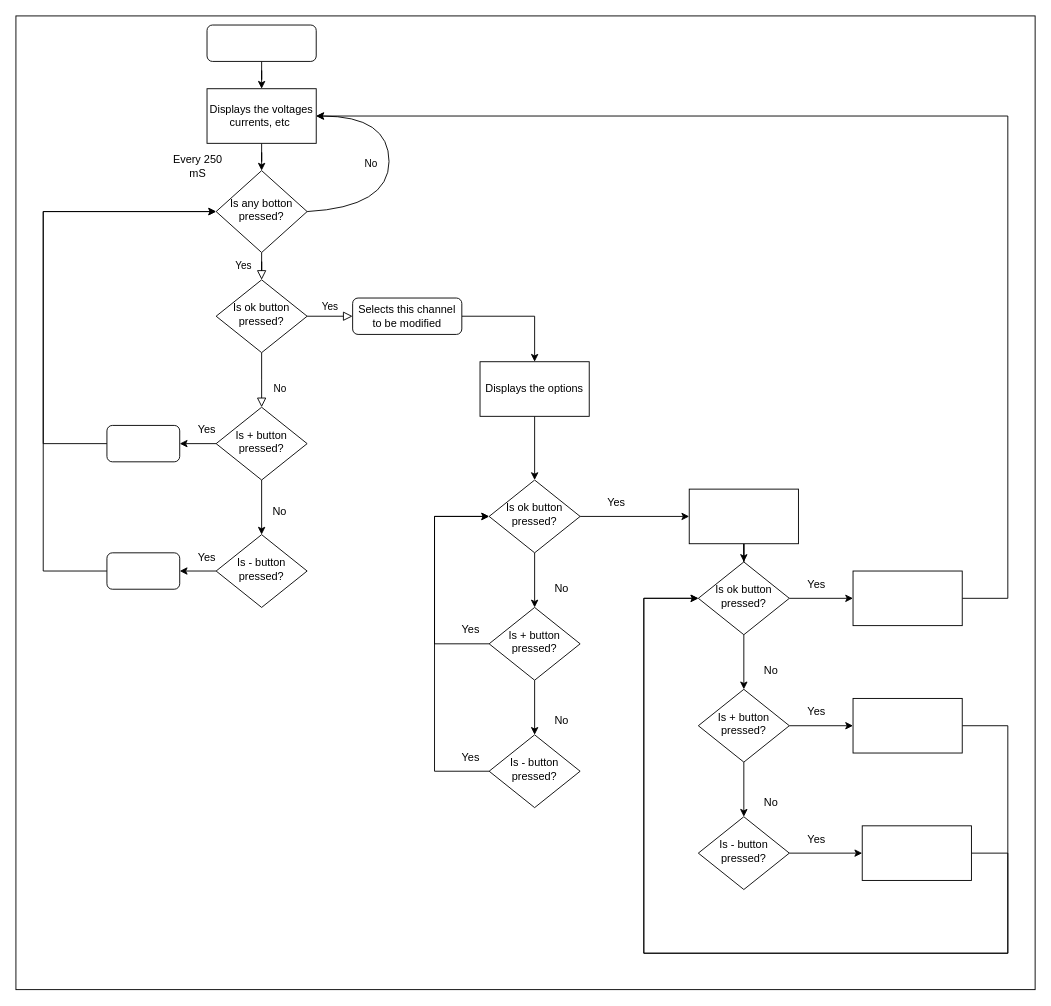
The diagram is 1051 pixels wide and 1006 high, and some of its shapes have lost their labels. The centre of each missing label's shape, as x and y in pixels:
Decrease it: point 916,852
Down 1 channel: point 143,570
Increse it: point 907,725
Save it: point 907,598
Select this option: point 743,516
STARTS: point 261,42
Up 1 channel: point 143,443
